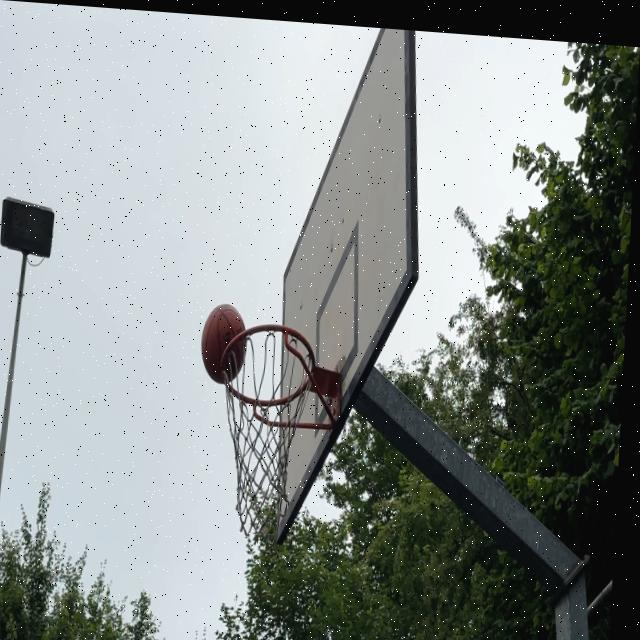rebound_hit: (200, 303, 250, 386)
